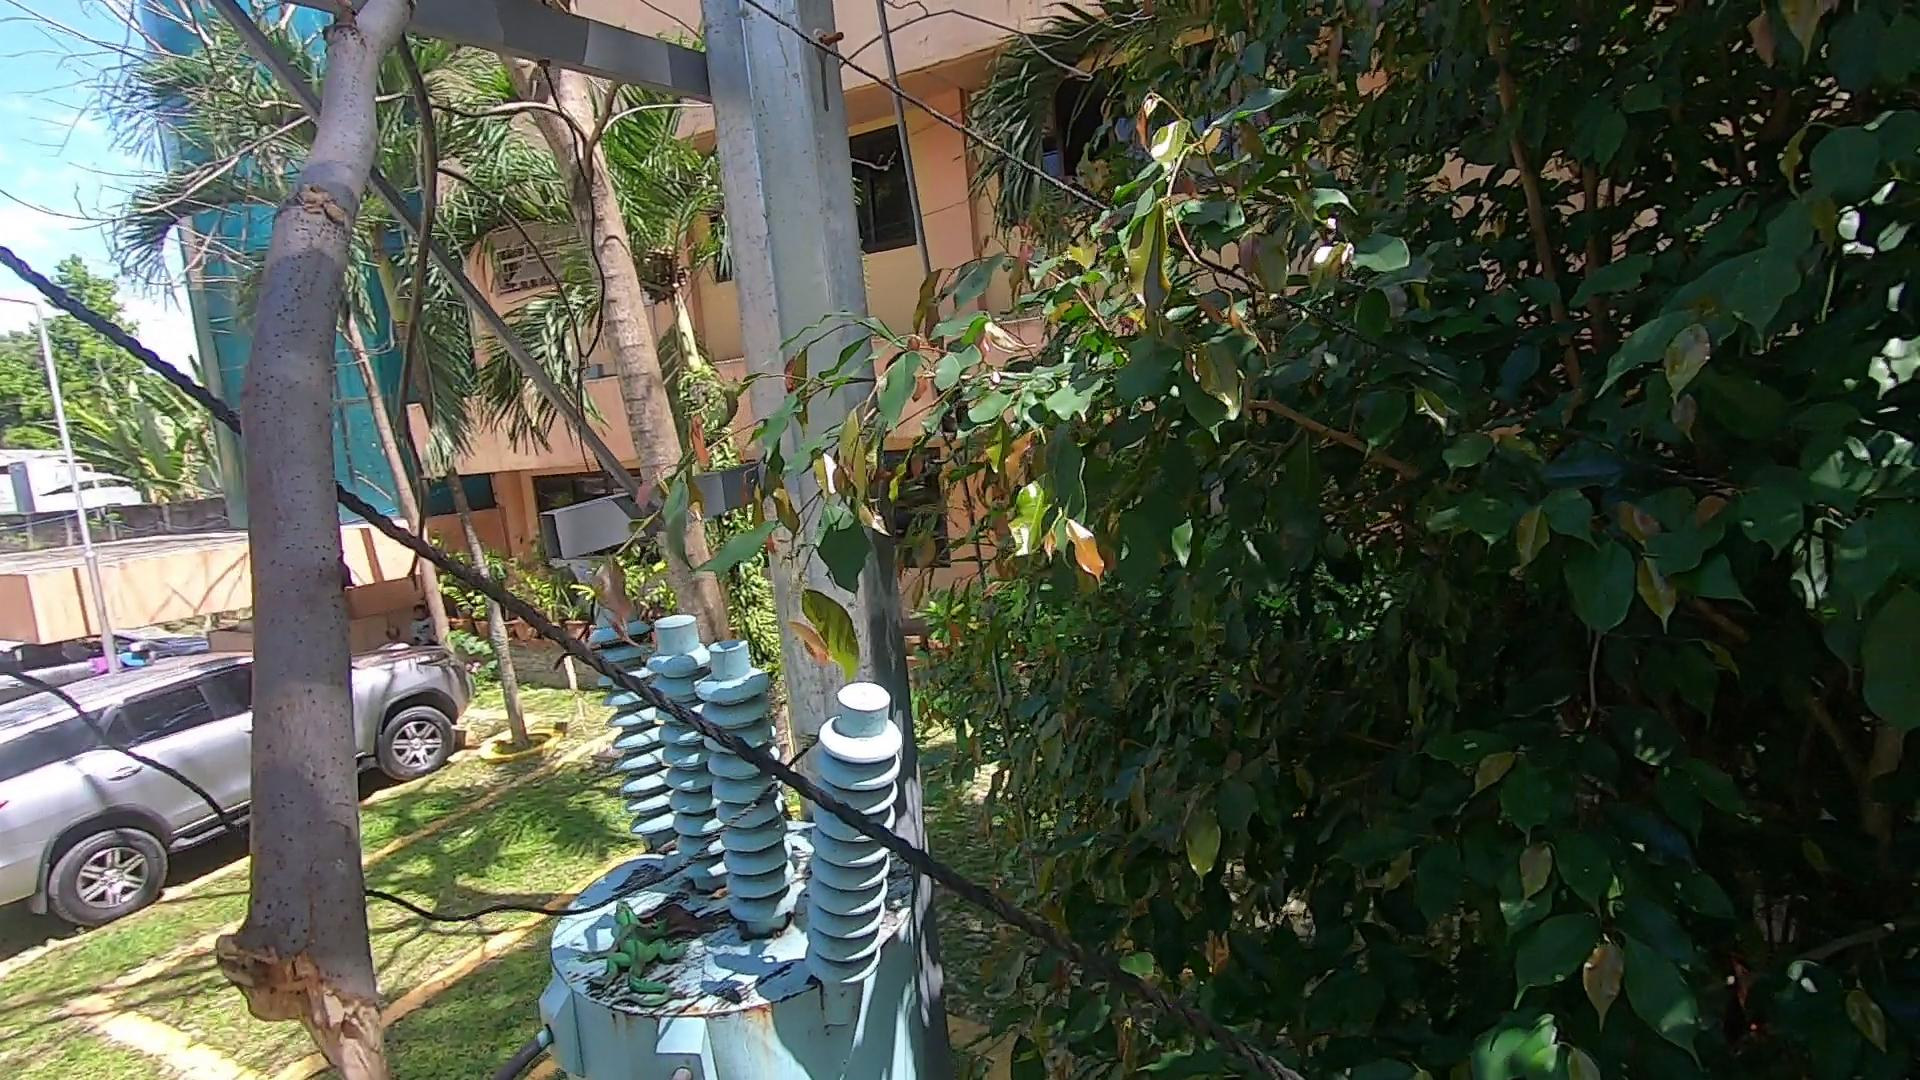branch with leaves: (547, 363, 905, 688)
leaf: (620, 880, 728, 951), (633, 828, 680, 858)
tree branch: (196, 1, 535, 1069)
